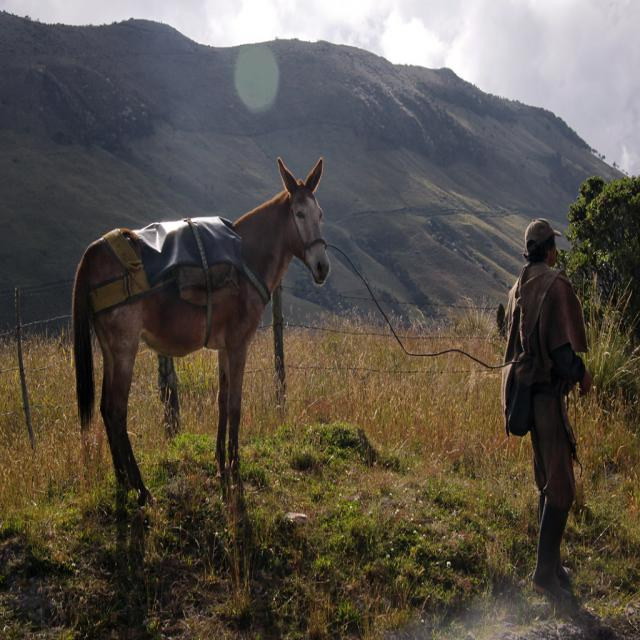Horse: (72, 157, 330, 508)
